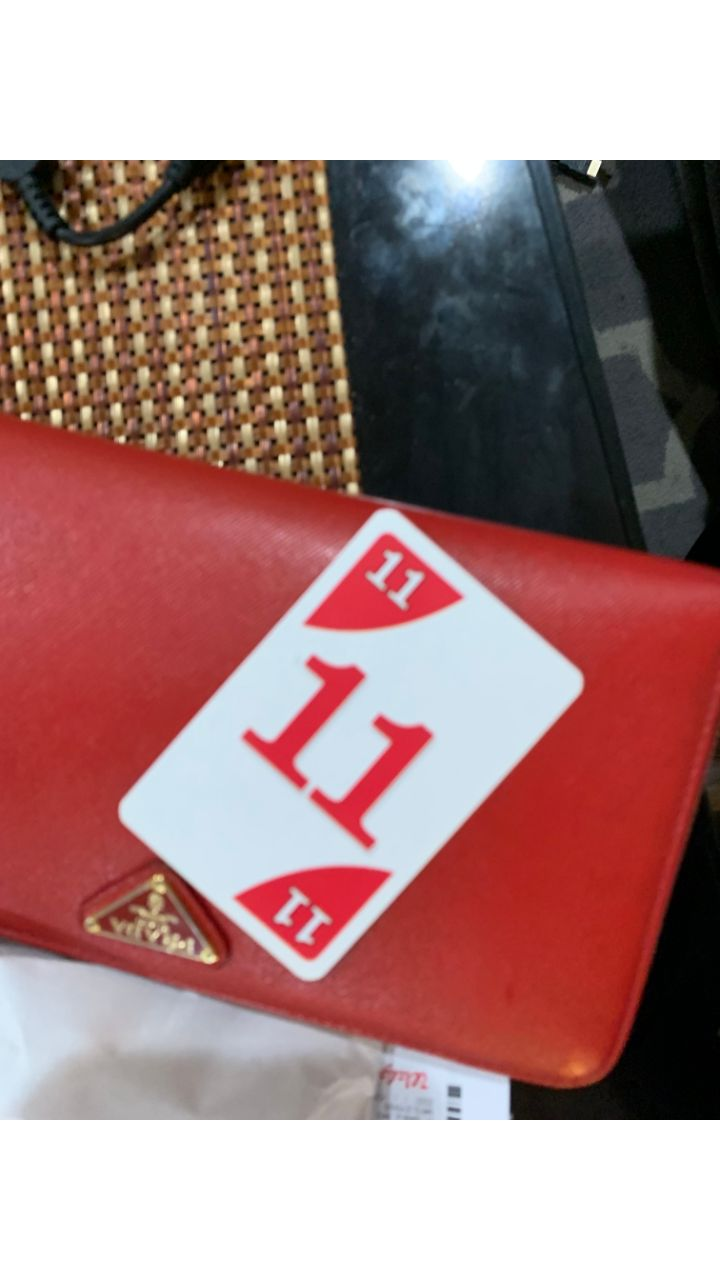eleven: (115, 507, 588, 988)
